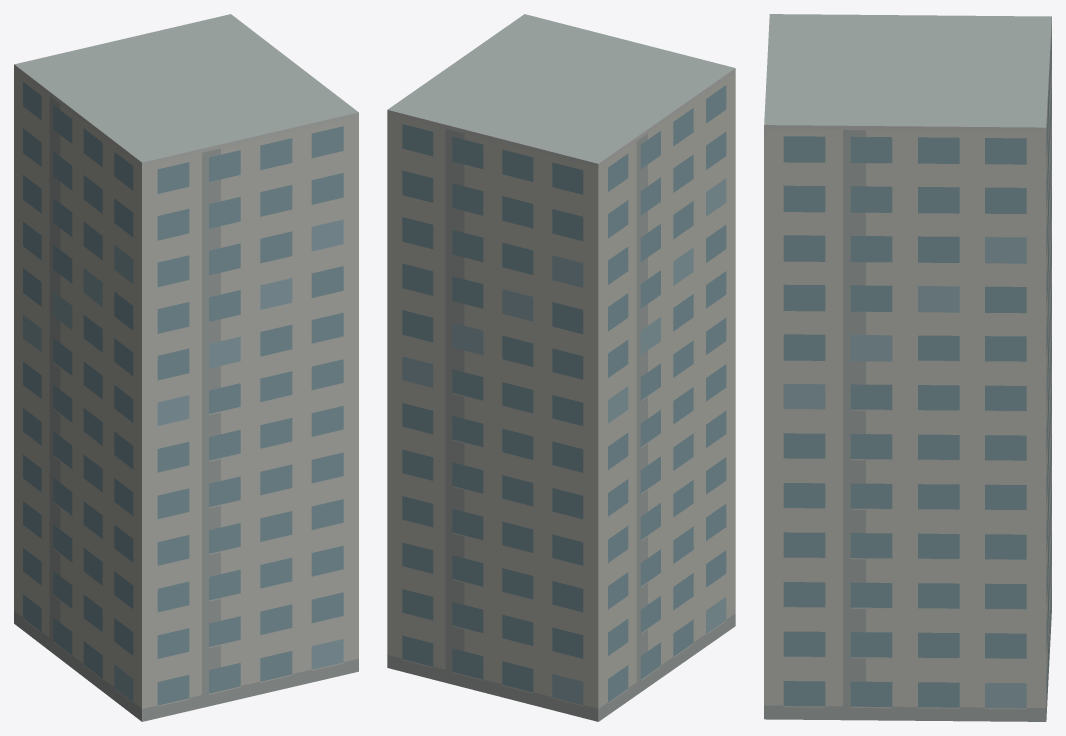
File: residential-b35ed6d6-6862-4db4-bfc7-555e9c9b77e5.glb
3 renders of one model, left to right at view 1: azimuth 30°, elevation 25°; view 2: azimuth 150°, elevation 25°; view 3: azimuth 270°, elevation 25°, orthographic. The views are drawn at different scales.
Visible parts, largest first — view 1: residential-b35ed6d6-6862-4db4-bfc7-555e9c9b77e5.tmp; view 2: residential-b35ed6d6-6862-4db4-bfc7-555e9c9b77e5.tmp; view 3: residential-b35ed6d6-6862-4db4-bfc7-555e9c9b77e5.tmp.
Part boxes in pixels (box(x1,y1,x2,y2)): residential-b35ed6d6-6862-4db4-bfc7-555e9c9b77e5.tmp: box(14, 14, 358, 721); residential-b35ed6d6-6862-4db4-bfc7-555e9c9b77e5.tmp: box(387, 14, 735, 721); residential-b35ed6d6-6862-4db4-bfc7-555e9c9b77e5.tmp: box(764, 14, 1051, 721).
Size of the model in its own units: 13.94 by 34 by 14.93.
